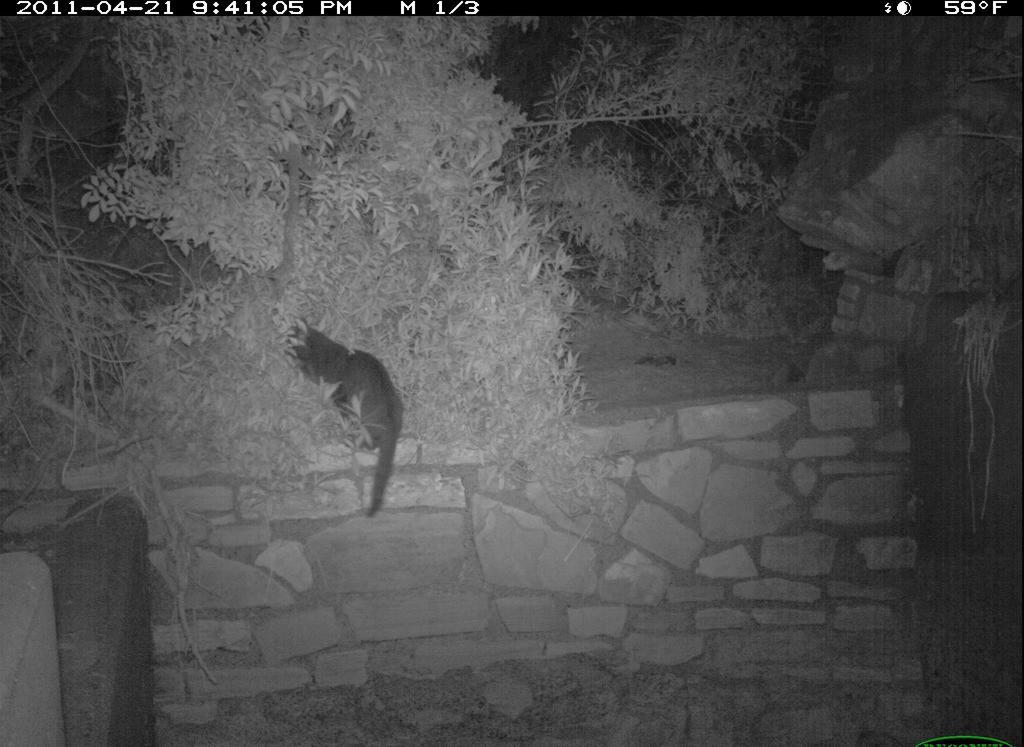cat: (269, 304, 432, 542)
